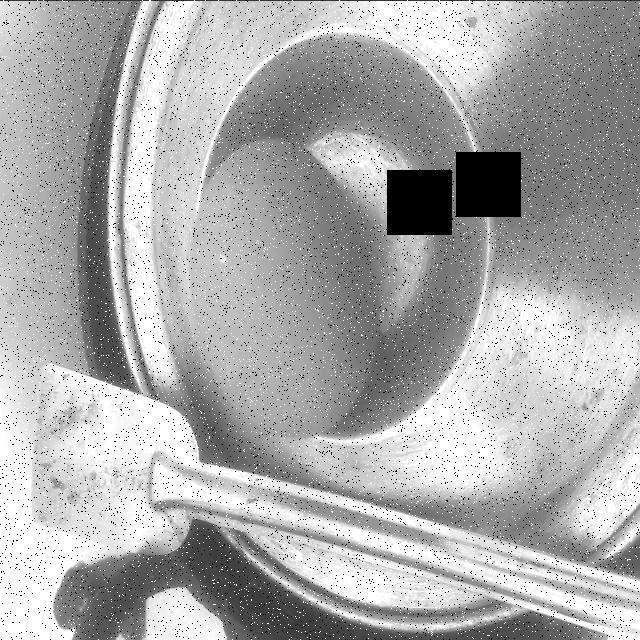egg: (183, 137, 381, 447)
